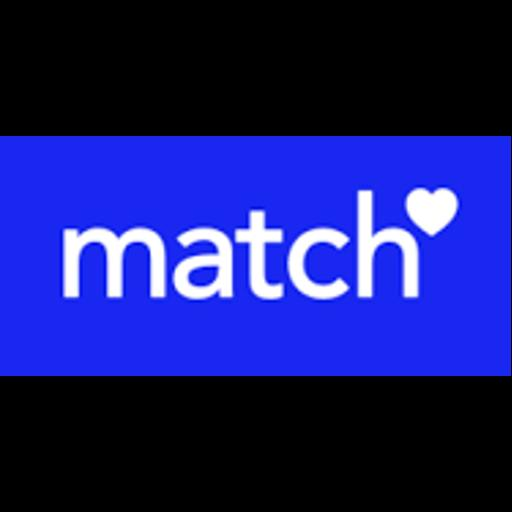Match: (0, 136, 511, 376)
